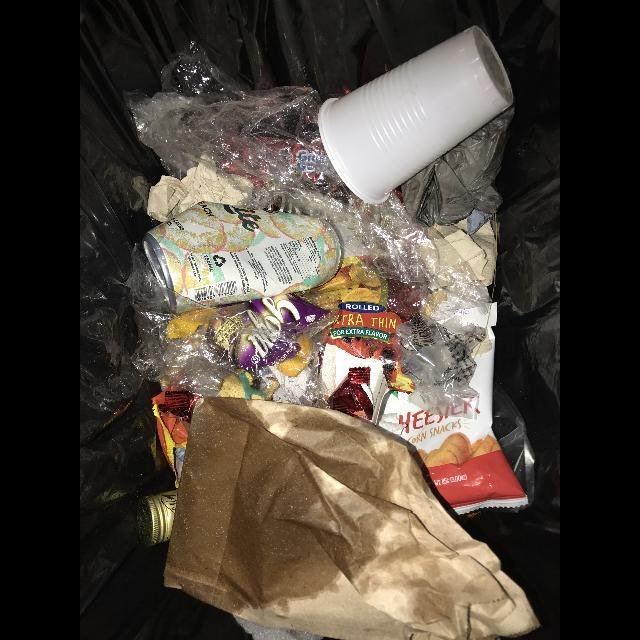metal: (144, 202, 343, 312)
paper: (163, 397, 541, 640)
plastic: (124, 40, 489, 312), (317, 26, 515, 205)
wrapper: (378, 303, 529, 515), (292, 257, 415, 393), (167, 295, 330, 367)
